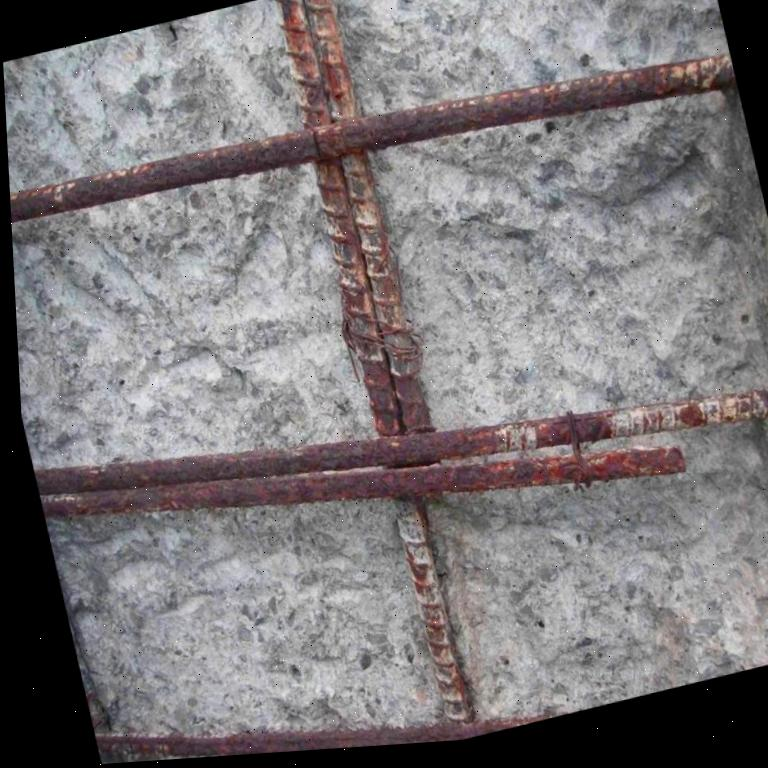exposed_rebar: (10, 0, 768, 764)
spalling: (3, 0, 768, 764)
